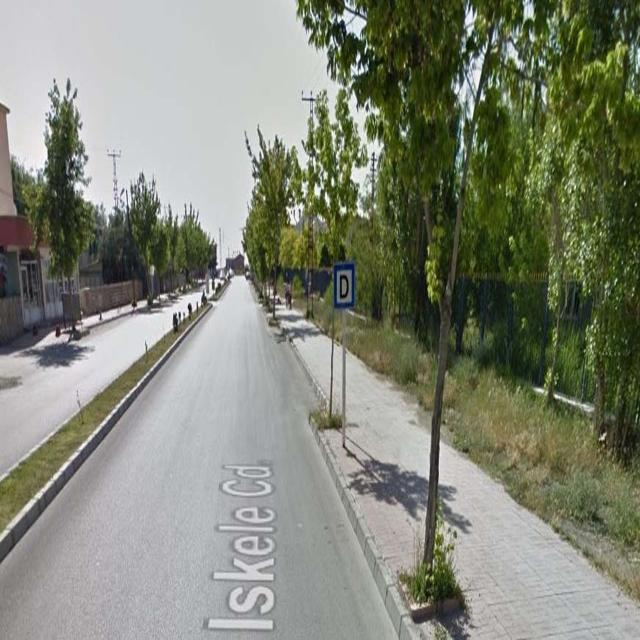durak: (333, 263, 355, 310)
